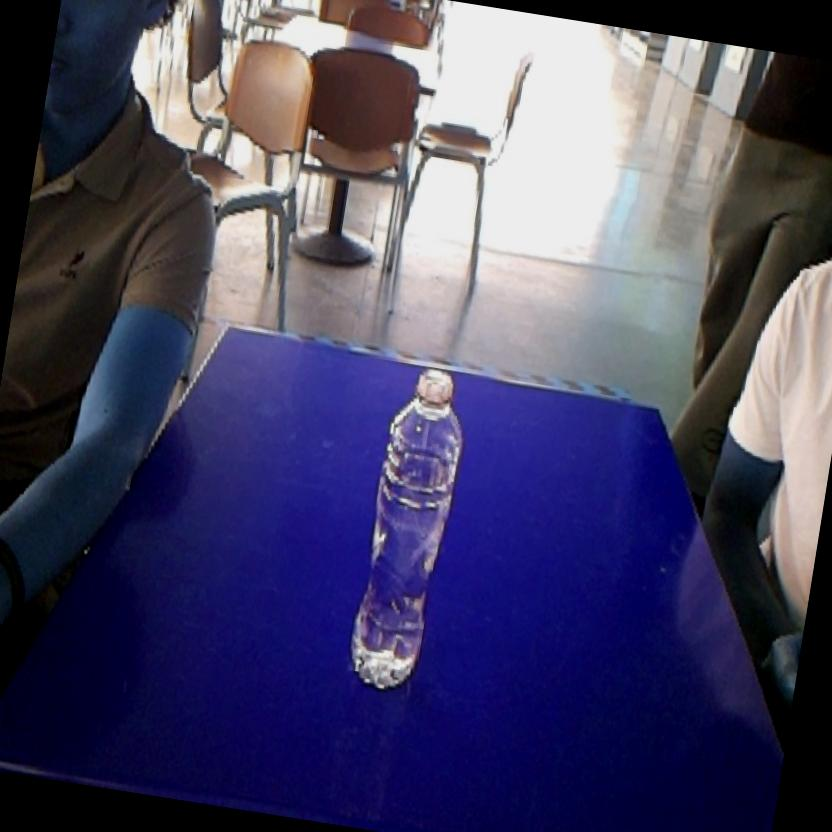no_cap: (336, 354, 480, 702)
